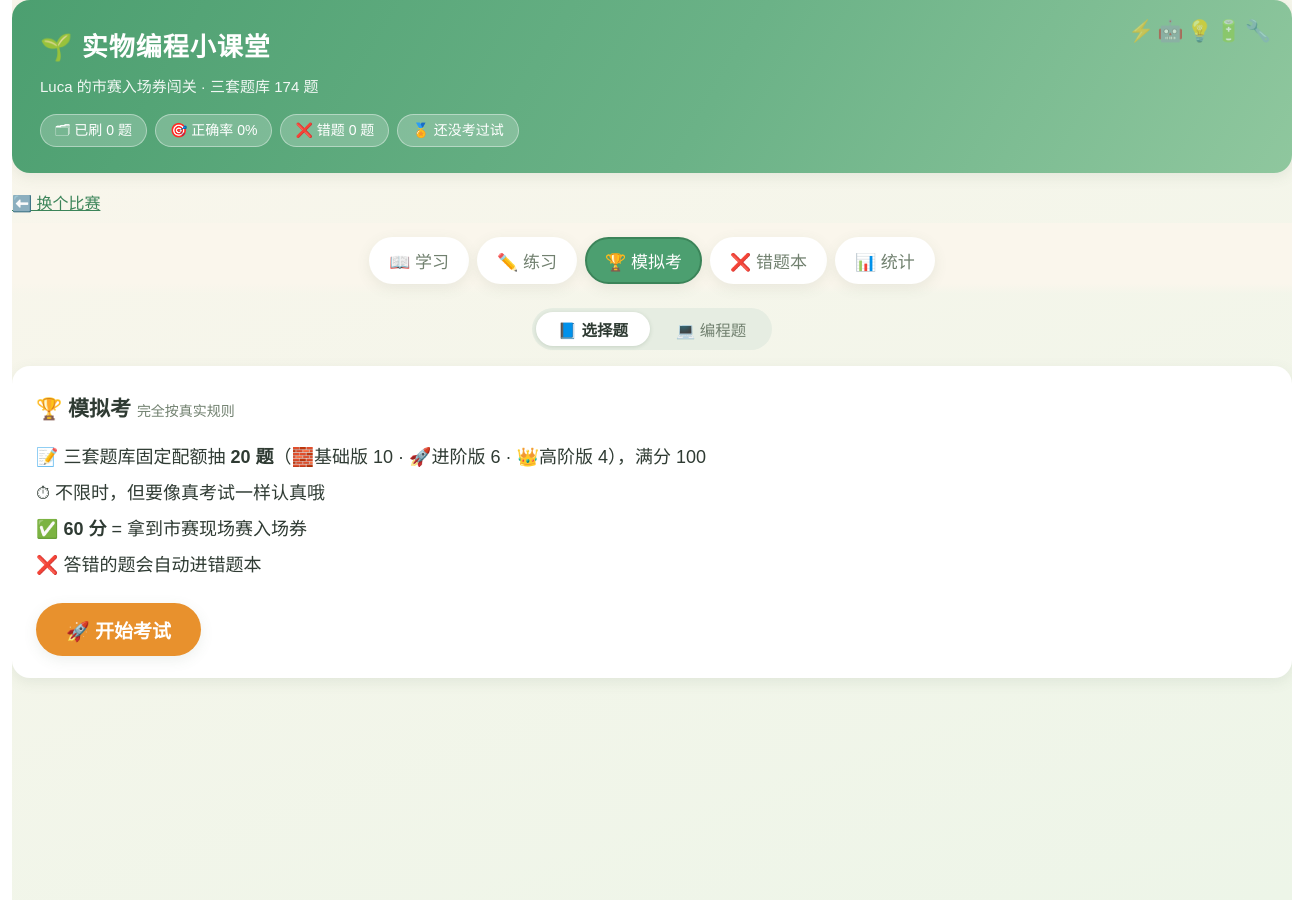
Test: AI 编程题子模块（挂在各 tab 下） › 模拟考页：编程题模式随机抽 1 个任务开考
The image size is (1292, 900).
Click the tab "💻 编程题". click: (711, 329)
box: x1=654 y1=312 x2=768 y2=346
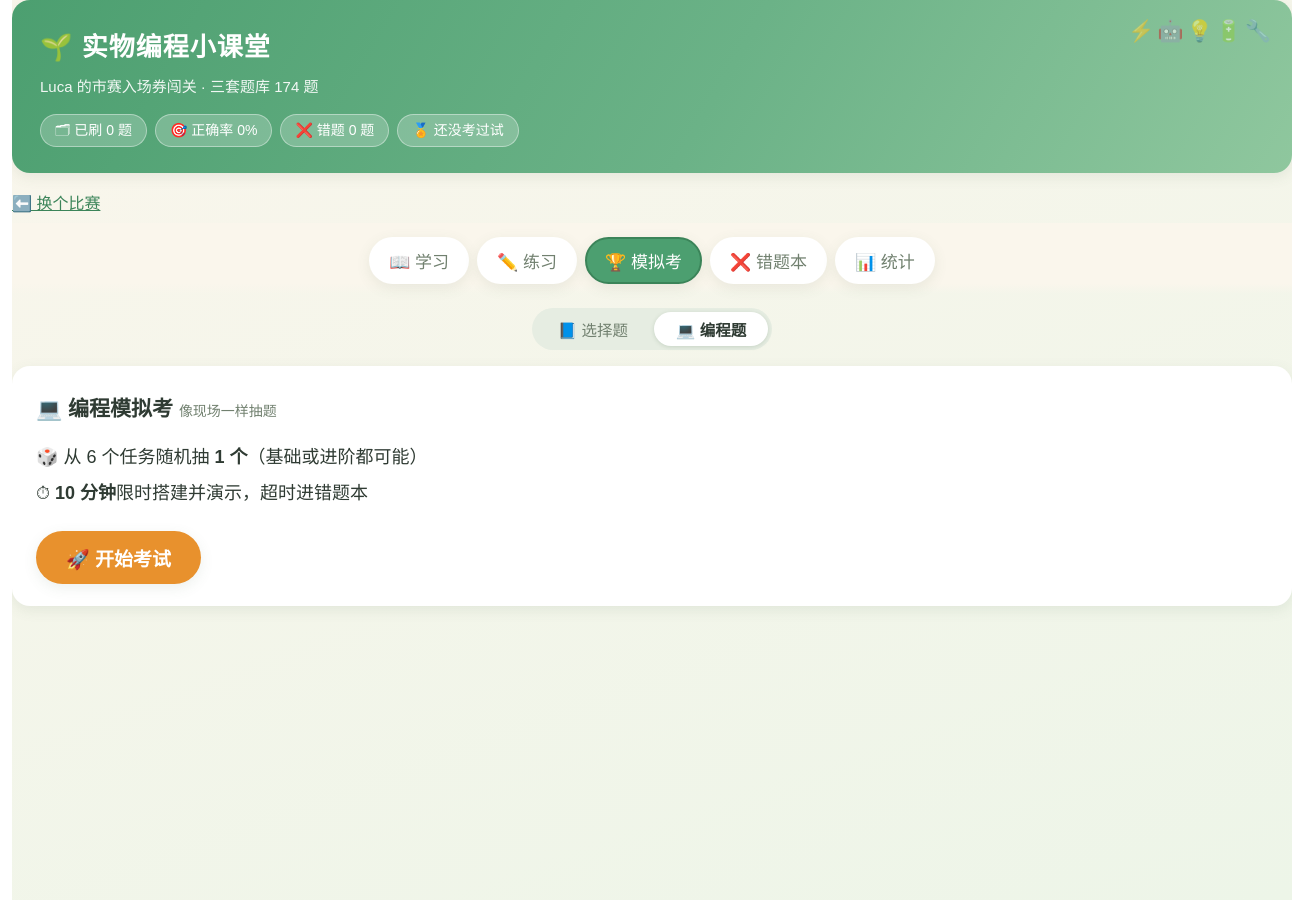
expect the tab "📘 选择题" is shown: met, box x1=536 y1=312 x2=650 y2=346
Click the button "🚀 开始考试". click: (118, 557)
box: x1=36 y1=531 x2=201 y2=584
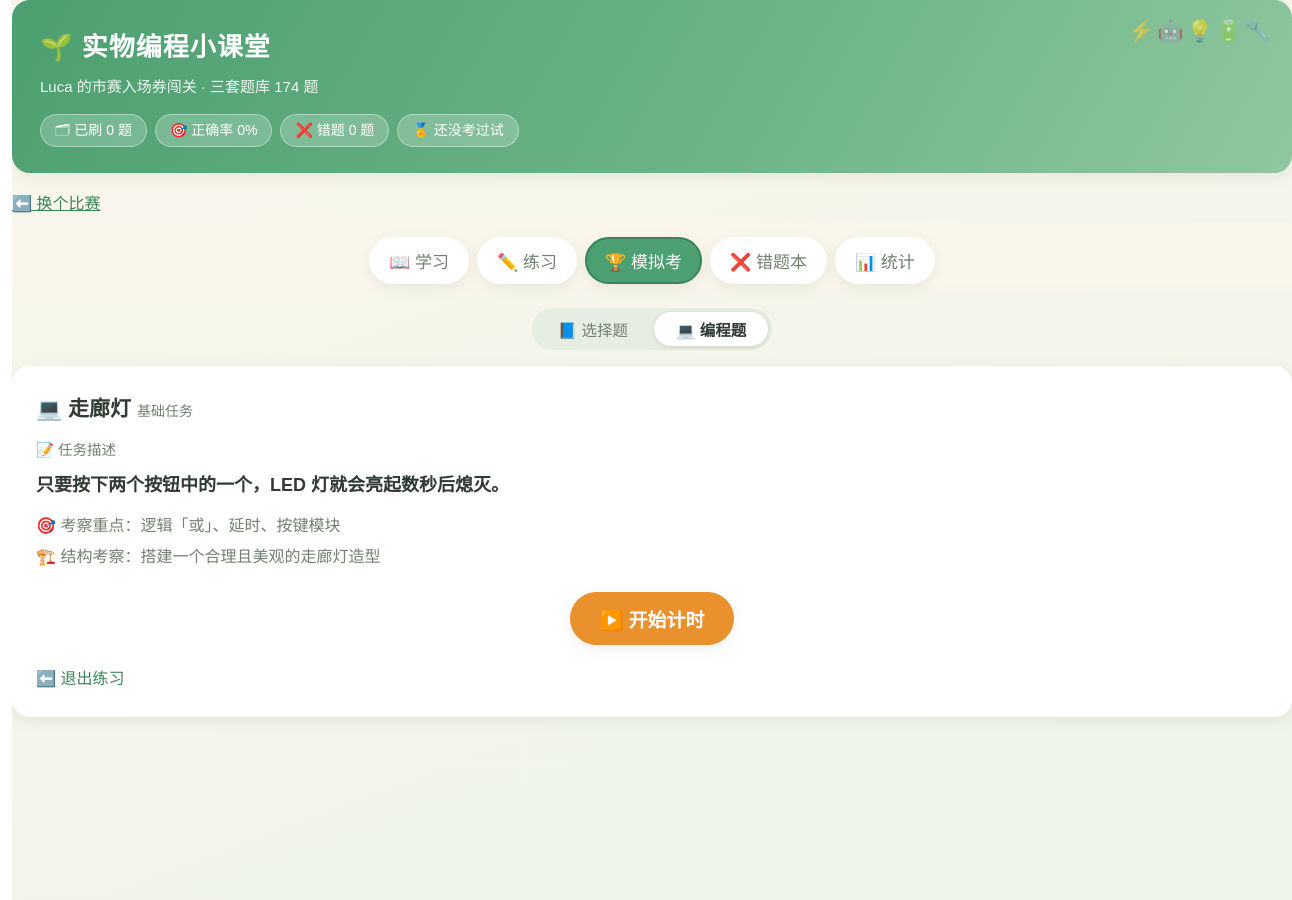
expect the button "▶️ 开始计时" is shown: met, box x1=570 y1=592 x2=734 y2=645
